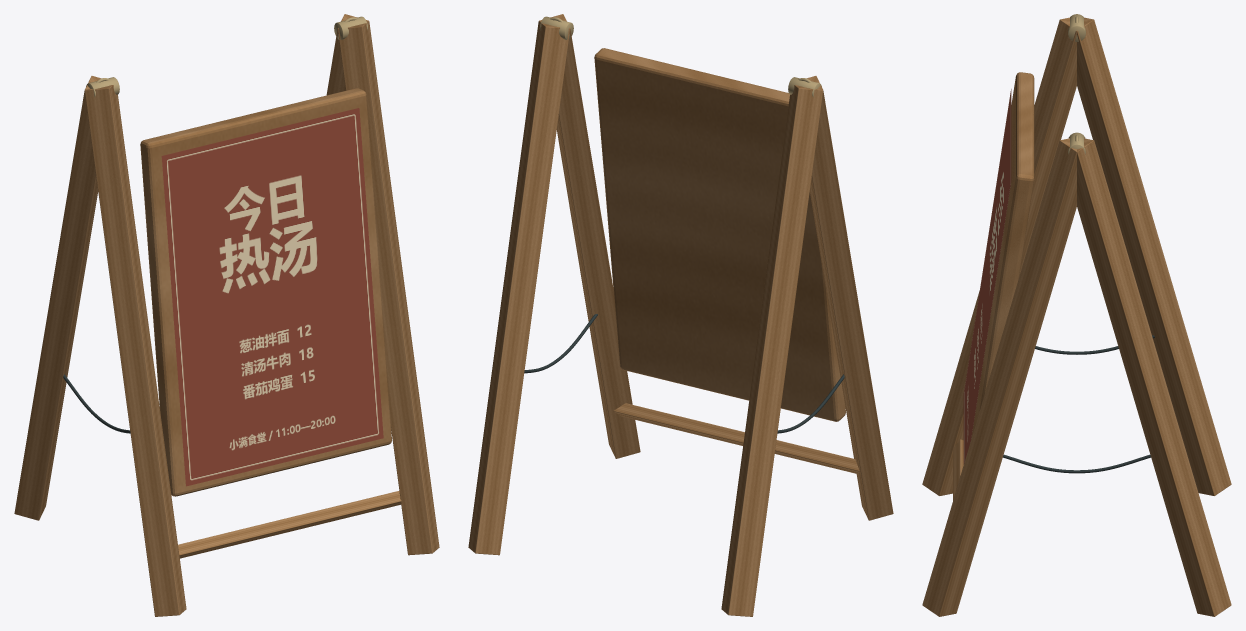
File: SoupSign.glb
3 views of the same model, side by side, from view 1: azimuth 30°, elevation 25°; view 2: azimuth 150°, elevation 25°; view 3: azimuth 270°, elevation 25° (orthographic). The views are drawn at different scales.
Parts seen in each view (by area): view 1: SoupSign_NX_SoupSignGraphic, SoupSign_NX_Oak, SoupSign_NX_Brass; view 2: SoupSign_NX_Oak, SoupSign_NX_Brass, SoupSign_NX_BlackSteel; view 3: SoupSign_NX_Oak, SoupSign_NX_SoupSignGraphic, SoupSign_NX_BlackSteel, SoupSign_NX_Brass.
Part boxes in pixels (x1,y1,x2,y2): SoupSign_NX_SoupSignGraphic: (161, 108, 383, 486); SoupSign_NX_Oak: (14, 14, 439, 616); SoupSign_NX_Brass: (86, 16, 368, 97); SoupSign_NX_Oak: (468, 14, 893, 616); SoupSign_NX_Brass: (539, 16, 821, 97); SoupSign_NX_BlackSteel: (524, 314, 844, 433); SoupSign_NX_Oak: (922, 17, 1231, 616); SoupSign_NX_SoupSignGraphic: (963, 89, 1011, 464); SoupSign_NX_BlackSteel: (1003, 335, 1154, 473); SoupSign_NX_Brass: (1068, 14, 1085, 154).
Size of the model in its own units: 0.6071 by 0.9934 by 0.5843.
4 materials, 2 textured.
